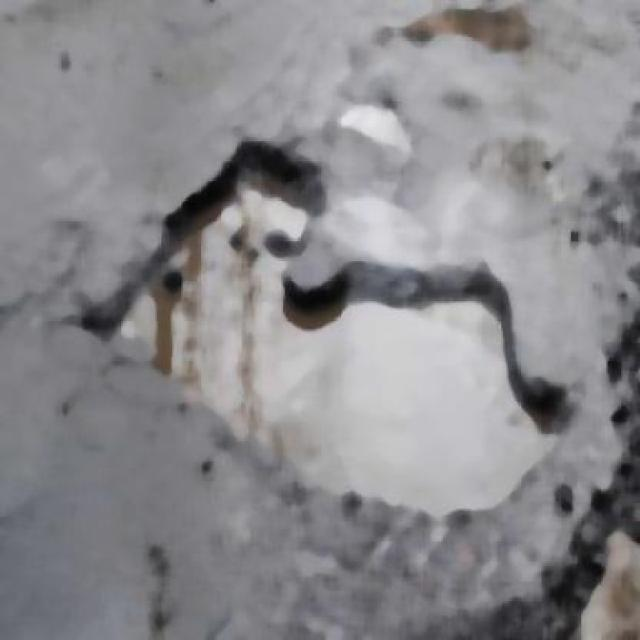Pothole: (79, 130, 579, 515)
